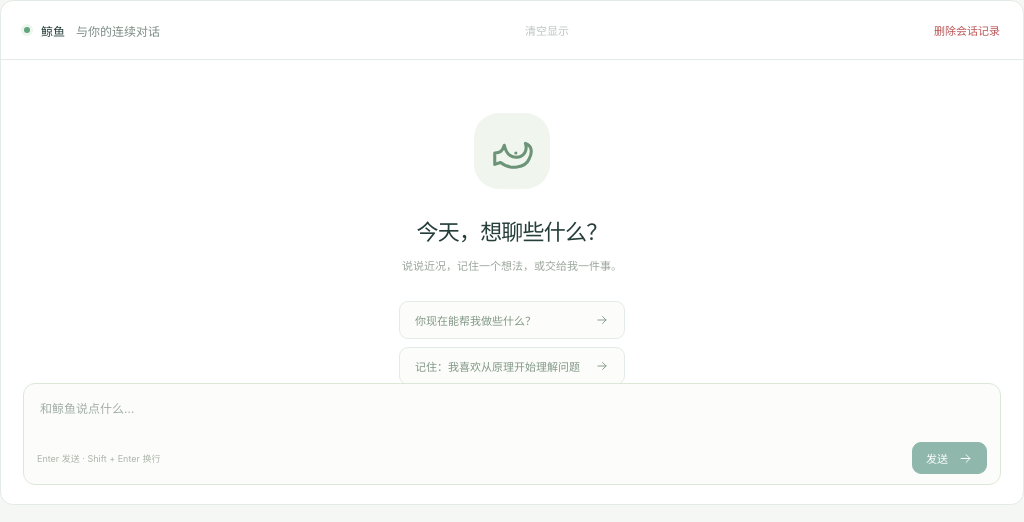
Chat 流式（issue #45） › 流通道失败：回落非流式 /chat 并标注降级
Step 1. Type "你好" into the text box named "消息内容" → [512, 414], box left=32, top=389, right=992, bottom=439
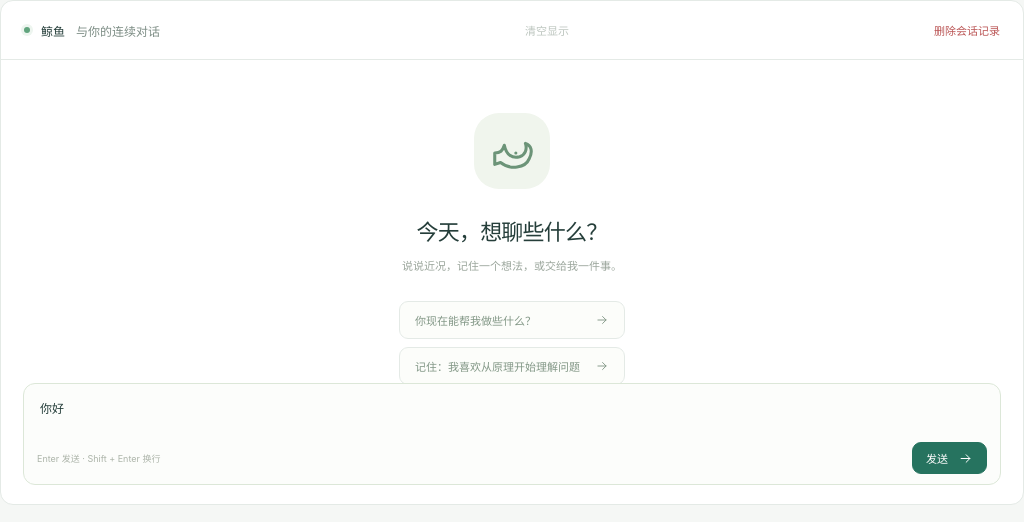
Step 2. Click the button "发送" → [950, 458], box left=912, top=442, right=987, bottom=474
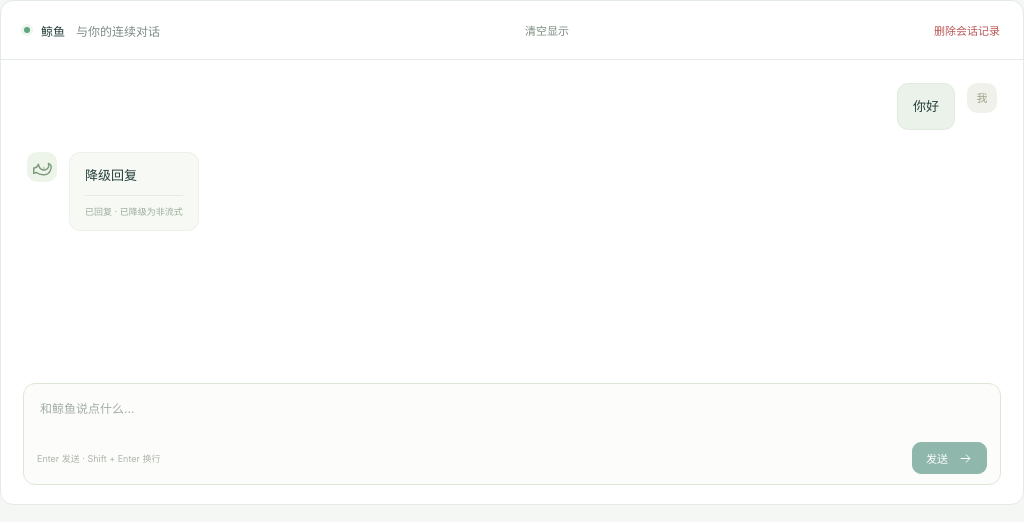
Expected: the text "降级回复" is shown, left=85, top=167, right=137, bottom=183
Expected: the text "已回复 · 已降级为非流式" is shown, left=85, top=195, right=183, bottom=220
